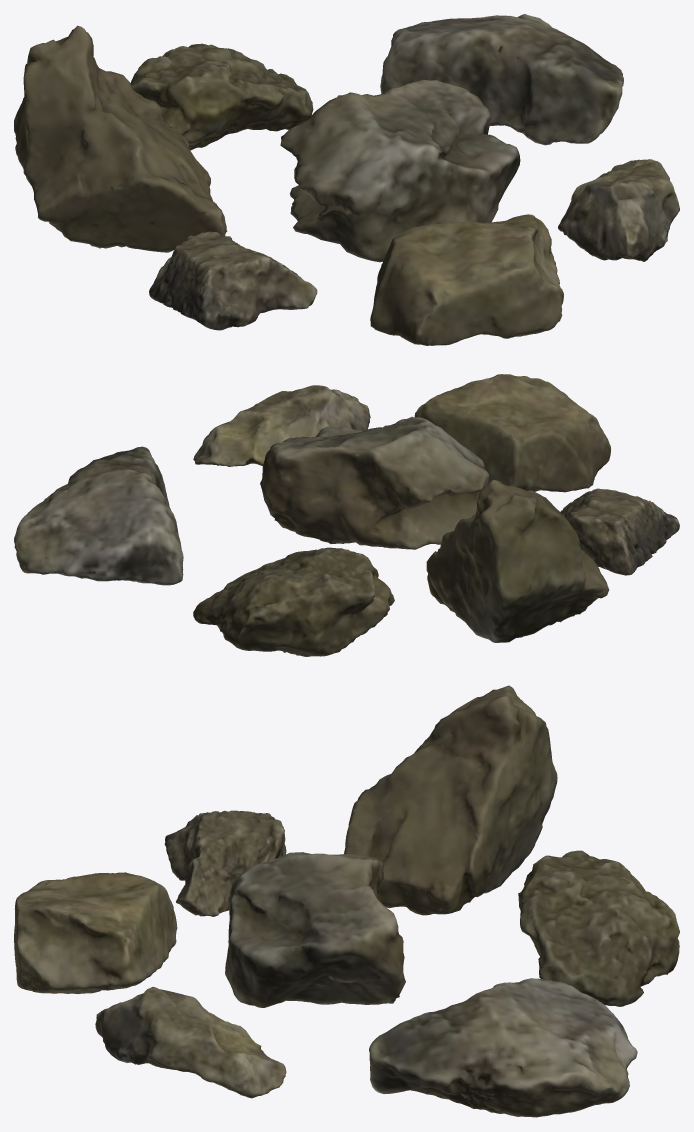
Rendered from rock.glb.
3 renders of one model, top to bottom at view 1: azimuth 30°, elevation 25°; view 2: azimuth 150°, elevation 25°; view 3: azimuth 270°, elevation 25°, orthographic. The views are drawn at different scales.
Visible parts, largest first — view 1: rock_big_2, rock_big_1, rock_medium_1, rock_big_3, rock_big_4, rock_medium_2, rock_medium_3; view 2: rock_big_1, rock_big_2, rock_big_3, rock_big_4, rock_medium_1, rock_medium_3, rock_medium_2; view 3: rock_big_2, rock_big_3, rock_big_1, rock_big_4, rock_medium_1, rock_medium_3, rock_medium_2.
Part boxes in pixels (bbox=[...]): rock_big_2: bbox=[14, 25, 227, 252]; rock_big_1: bbox=[280, 79, 520, 262]; rock_medium_1: bbox=[370, 214, 563, 345]; rock_big_3: bbox=[380, 14, 623, 145]; rock_big_4: bbox=[130, 43, 313, 150]; rock_medium_2: bbox=[149, 231, 317, 330]; rock_medium_3: bbox=[558, 159, 679, 261]; rock_big_1: bbox=[260, 416, 489, 549]; rock_big_2: bbox=[426, 479, 609, 642]; rock_big_3: bbox=[14, 446, 183, 585]; rock_big_4: bbox=[193, 547, 394, 656]; rock_medium_1: bbox=[414, 374, 610, 492]; rock_medium_3: bbox=[193, 385, 370, 466]; rock_medium_2: bbox=[560, 488, 679, 575]; rock_big_2: bbox=[344, 685, 557, 915]; rock_big_3: bbox=[369, 978, 637, 1117]; rock_big_1: bbox=[225, 852, 405, 1007]; rock_big_4: bbox=[518, 850, 679, 1006]; rock_medium_1: bbox=[14, 872, 177, 993]; rock_medium_3: bbox=[95, 987, 286, 1098]; rock_medium_2: bbox=[164, 810, 286, 916].
Bounding box in the file's own units: 1.35 × 0.4097 × 1.33.
Materials: 1 (1 with a texture image).
